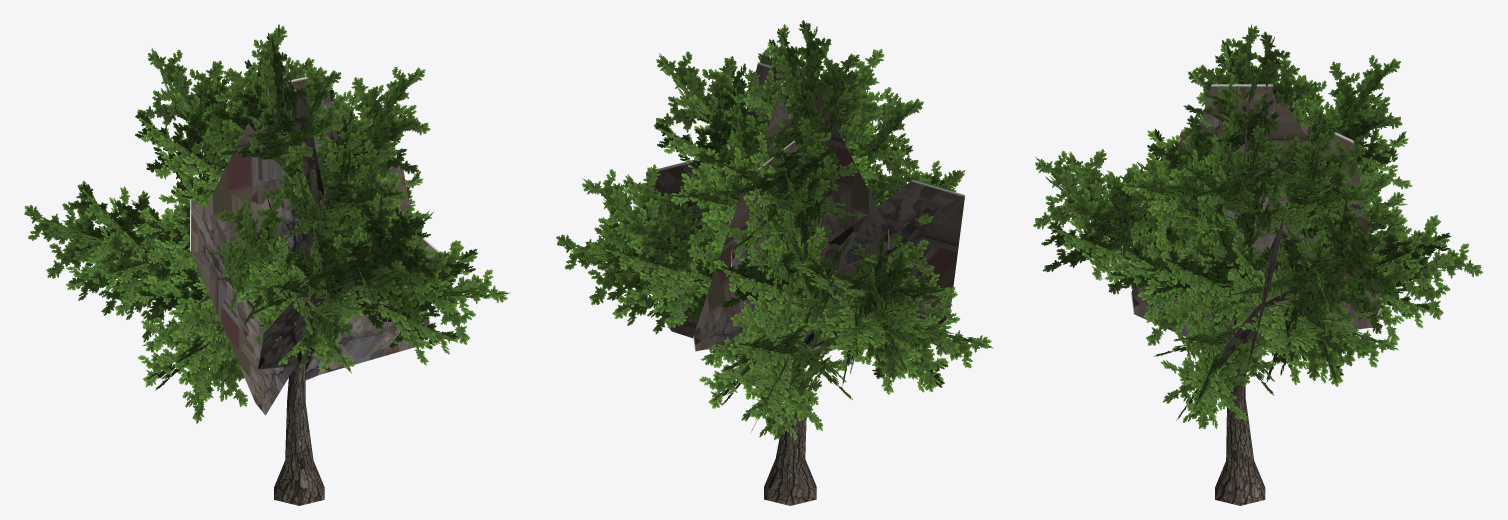
The model's file is VEG0210028.fbx.
3 renders of one model, left to right at view 1: azimuth 30°, elevation 25°; view 2: azimuth 150°, elevation 25°; view 3: azimuth 270°, elevation 25°, orthographic. The views are drawn at different scales.
Visible parts, largest first — view 1: smVEG0210028; view 2: smVEG0210028; view 3: smVEG0210028.
Boxes of the visible parts, x1,y1,x2,y2 form: smVEG0210028: [24, 24, 510, 505]; smVEG0210028: [556, 20, 993, 505]; smVEG0210028: [1033, 24, 1482, 505].
Size of the model in its own units: 561 by 641 by 575.
Materials: 3 (3 with a texture image).
